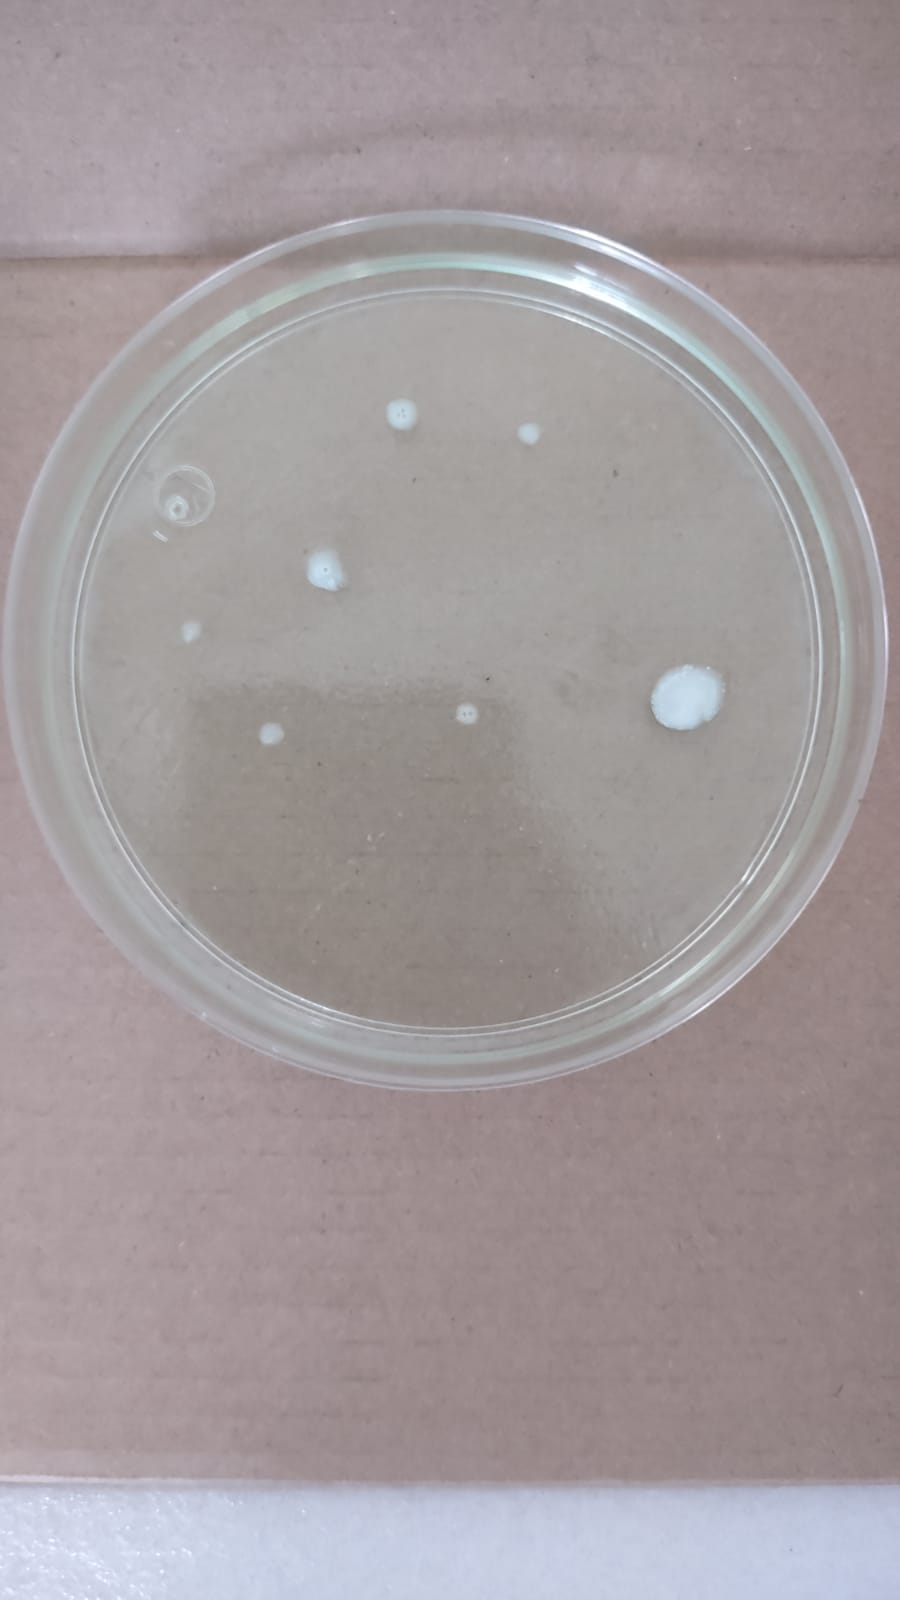Colonia: (648, 657, 727, 738), (302, 547, 362, 595), (386, 395, 423, 432), (453, 697, 490, 733), (515, 416, 542, 452), (254, 721, 289, 747), (178, 622, 207, 643)
